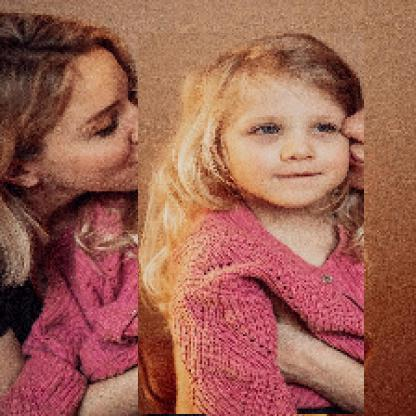child: (139, 34, 366, 416)
